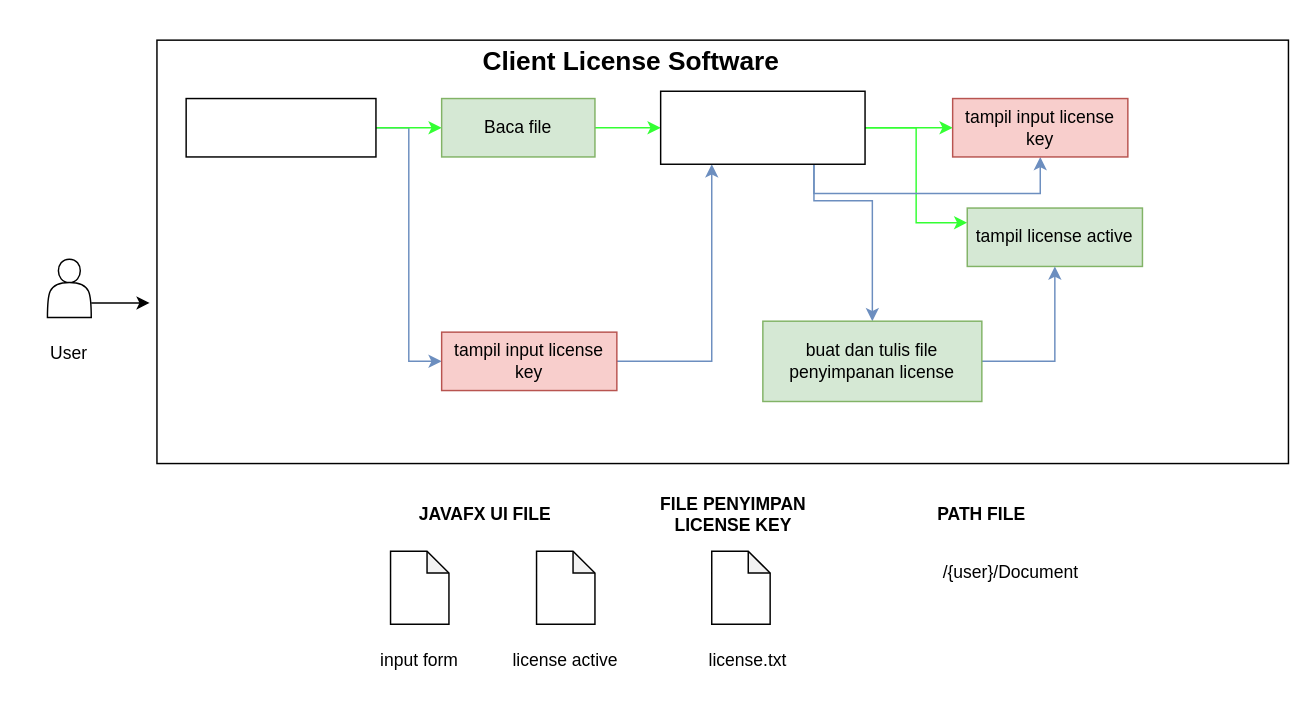
This 1314x708 diagram has some shape labels left out. Here are the shapes that lost their labels. From the top down, the box of each, then its label:
(185, 97, 376, 157): Validasi file penyimpanan license
(659, 90, 865, 164): HTTP request validasi license yang ada
